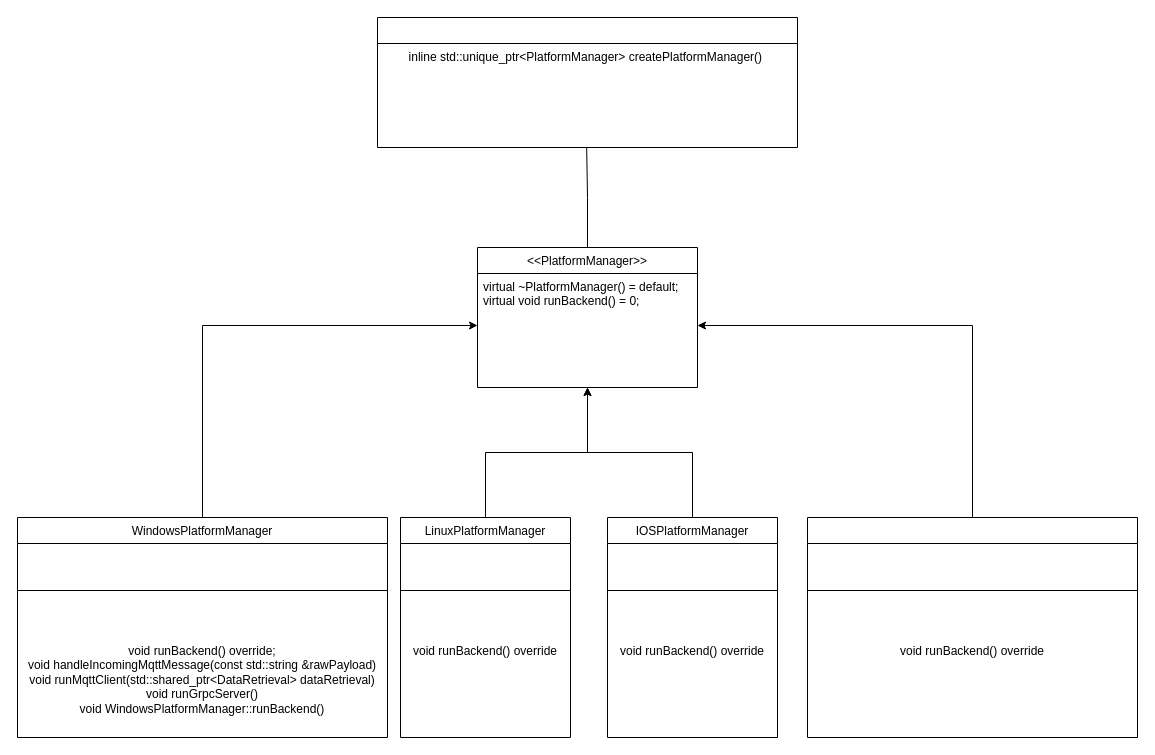
The diagram is 1155 pixels wide and 755 high, and some of its shapes have lost their labels. Each missing label, with the box of its shape:
AndoridPlatformManager: (806, 516, 1138, 738)
PlatformFactory: (376, 16, 798, 148)
